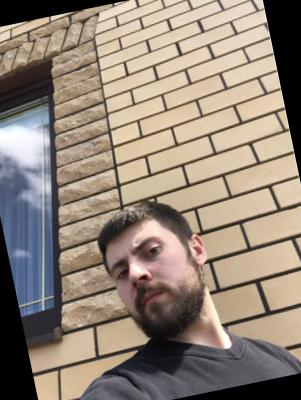without_mask: (104, 225, 214, 349)
